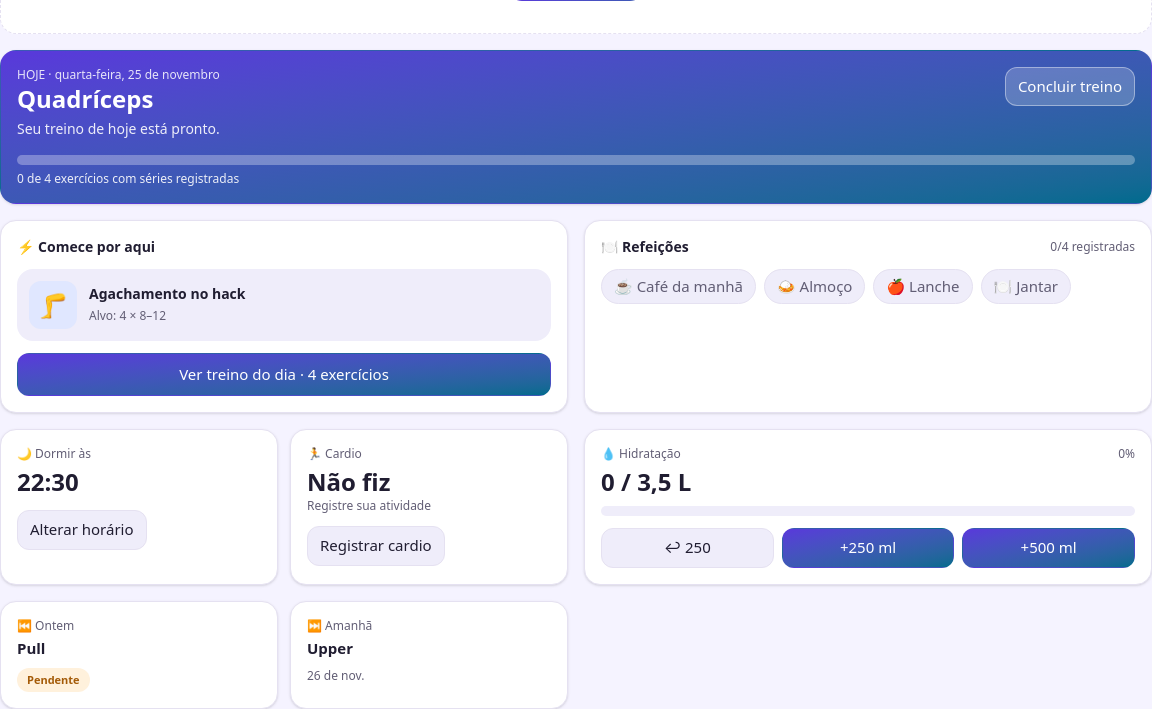
Início (resumo do dia) › hidratação soma, não passa de zero ao desfazer e persiste no formato antigo
(page scrolled)
Step 1. Click the button "↩ 250" → (687, 548), box [601, 528, 774, 568]
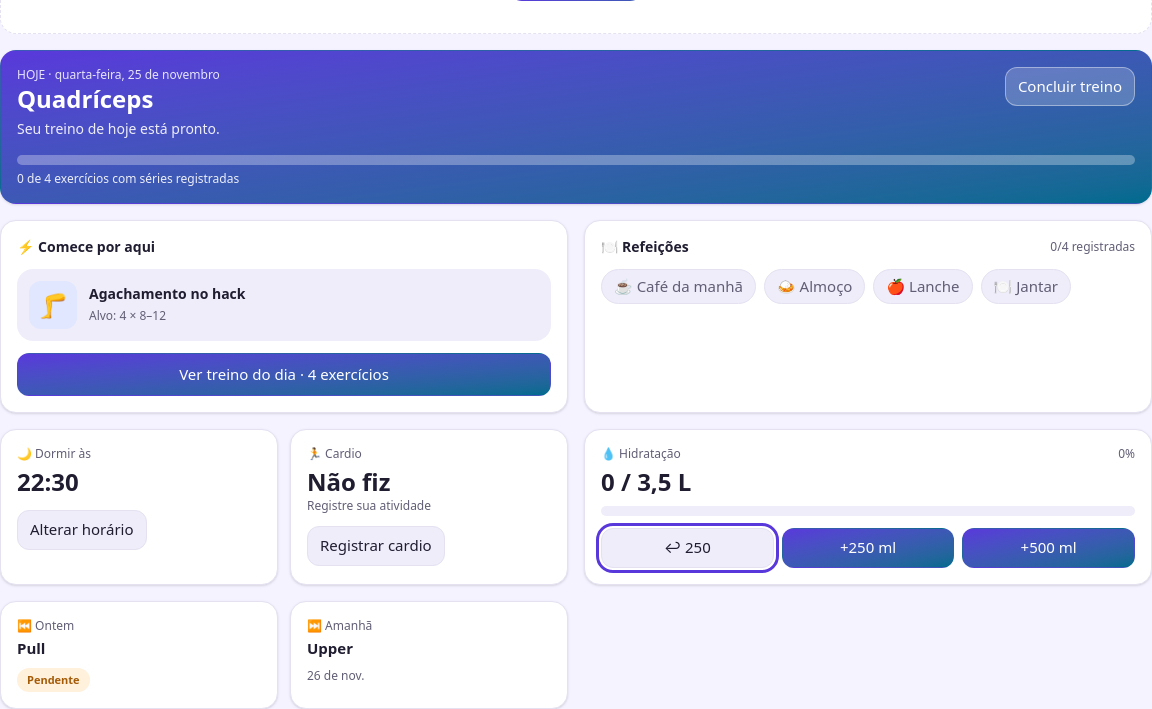
expect the text "0 / 3,5 L" is shown: met, box [601, 466, 691, 498]
Step 2. Click the button "+500 ml" → (1049, 548), box [962, 528, 1135, 568]
(page scrolled)
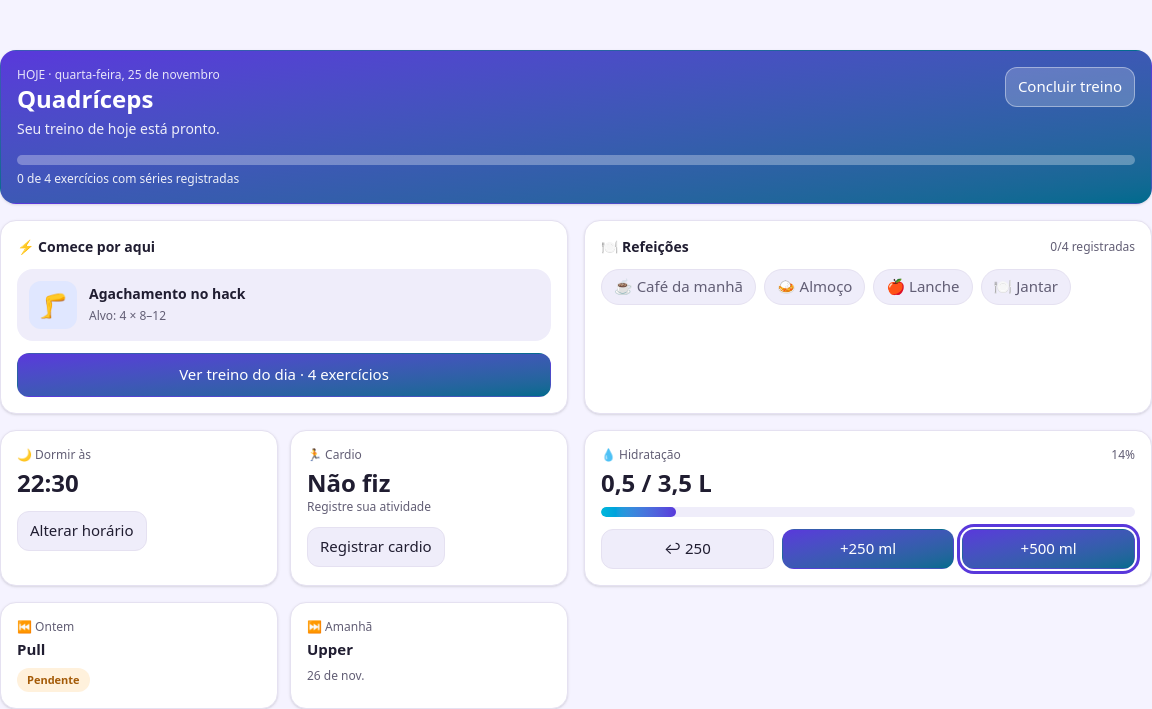
expect the text "0,5 / 3,5 L" is shown: met, box [601, 467, 712, 499]
